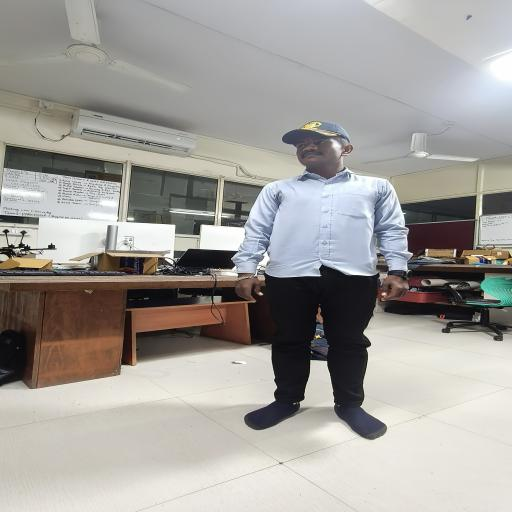survivor: (231, 120, 413, 440)
